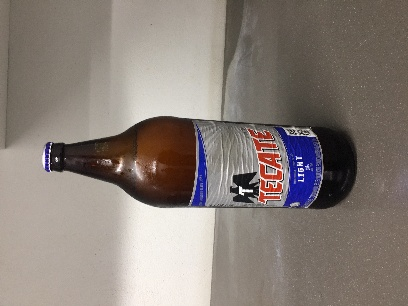TLB: (25, 83, 259, 153)
